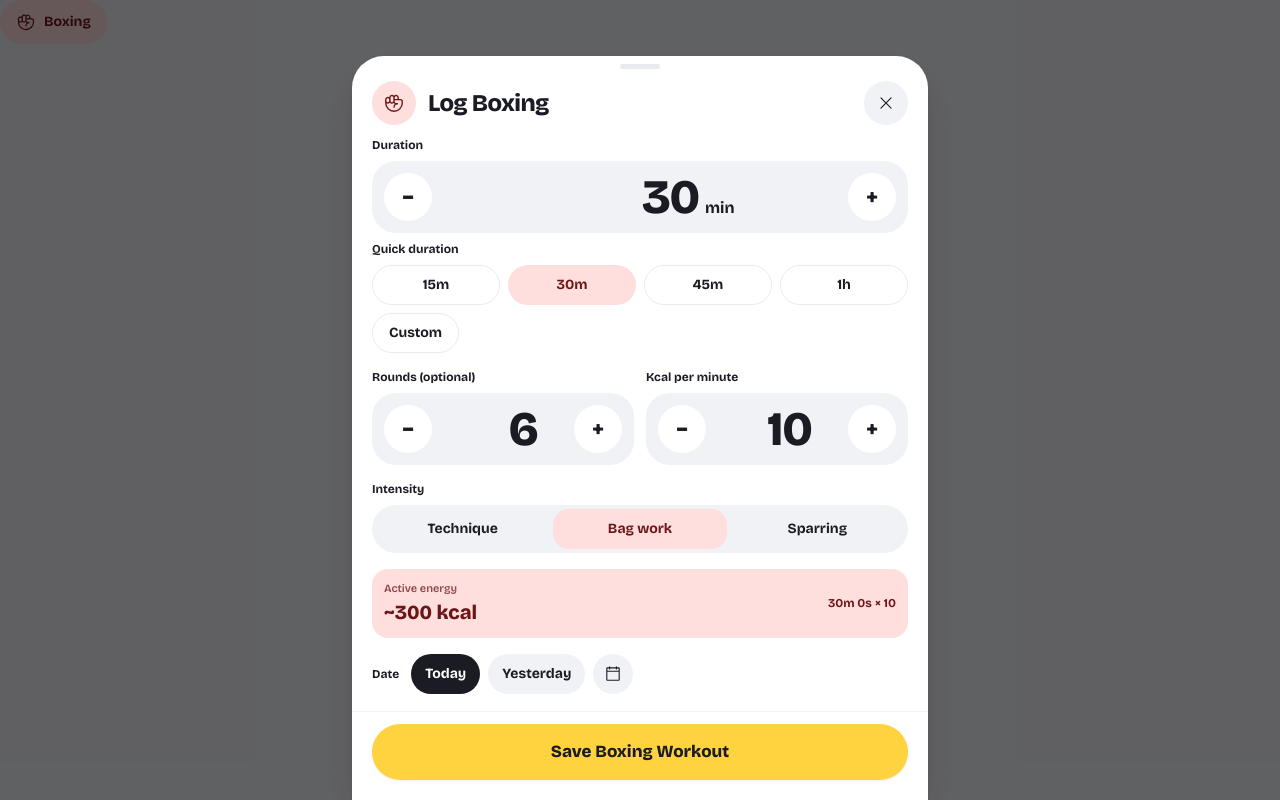
Test: BoxingLogger › closes an opened boxing sheet by backdrop
Step 1. Click the element with class "inset-0" → (77, 400), box [0,0,1279,799]
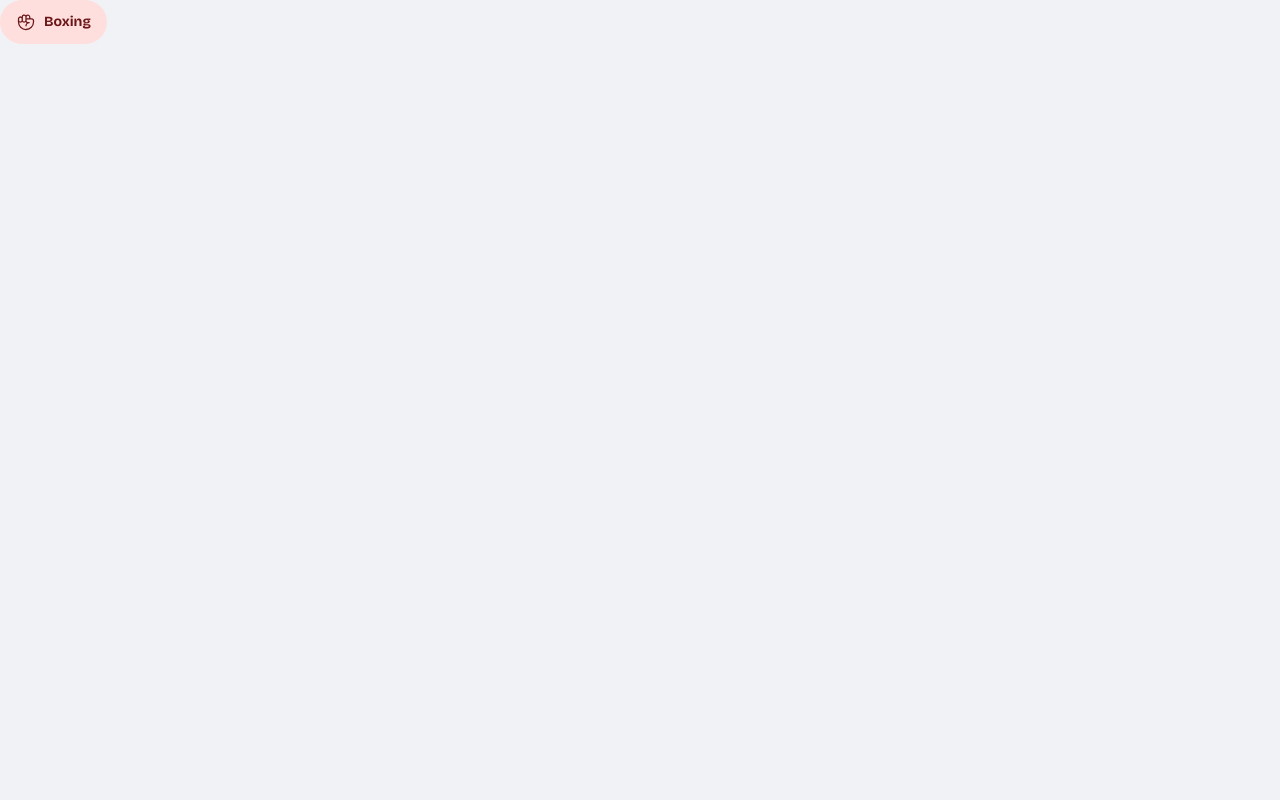
Expected: the heading "Log Boxing" is gone
